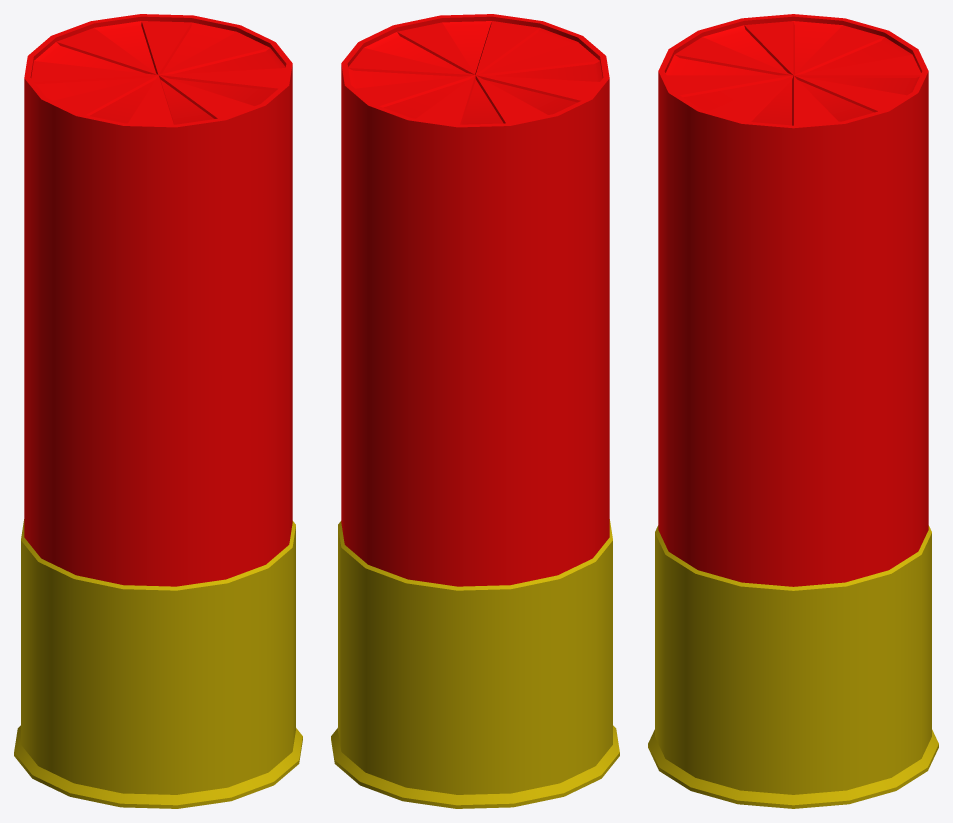
The model's file is shotgunshell (1).fbx.
The picture shows the model from 3 angles, left to right: view 1: azimuth 30°, elevation 25°; view 2: azimuth 150°, elevation 25°; view 3: azimuth 270°, elevation 25°; orthographic projection.
Visible parts, largest first — view 1: Cylinder; view 2: Cylinder; view 3: Cylinder.
Part boxes in pixels (x1,y1,x2,y2): Cylinder: (14, 14, 302, 808); Cylinder: (331, 14, 619, 808); Cylinder: (648, 14, 938, 808).
Size of the model in its own units: 37.75 by 96.83 by 37.75.
2 materials, 2 textured.
